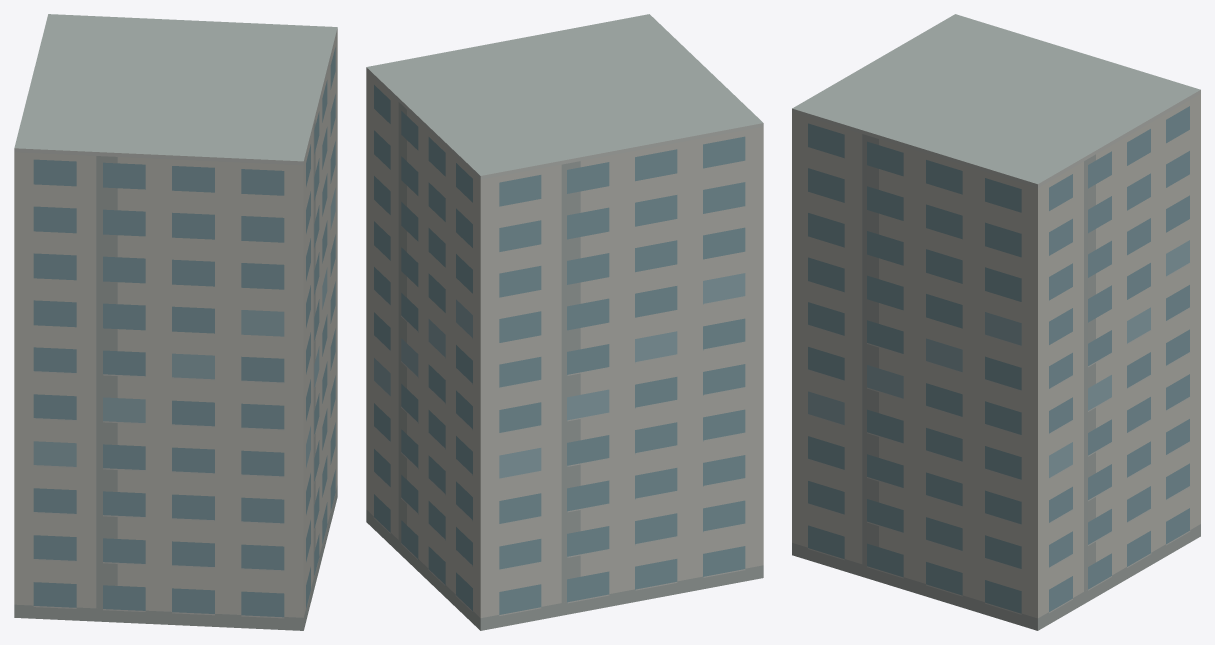
The model's file is residential-1d3d5743-3e4b-48d0-b679-8720aed091ab.glb.
3 views of the same model, side by side, from view 1: azimuth 30°, elevation 25°; view 2: azimuth 150°, elevation 25°; view 3: azimuth 270°, elevation 25° (orthographic). The views are drawn at different scales.
Parts seen in each view (by area): view 1: residential-1d3d5743-3e4b-48d0-b679-8720aed091ab.tmp; view 2: residential-1d3d5743-3e4b-48d0-b679-8720aed091ab.tmp; view 3: residential-1d3d5743-3e4b-48d0-b679-8720aed091ab.tmp.
Part boxes in pixels (x1=…): residential-1d3d5743-3e4b-48d0-b679-8720aed091ab.tmp: x1=14, y1=14, x2=337, y2=630; residential-1d3d5743-3e4b-48d0-b679-8720aed091ab.tmp: x1=366, y1=14, x2=763, y2=630; residential-1d3d5743-3e4b-48d0-b679-8720aed091ab.tmp: x1=792, y1=14, x2=1200, y2=630.
Bounding box in the file's own units: 23.72 × 29 × 24.07.
